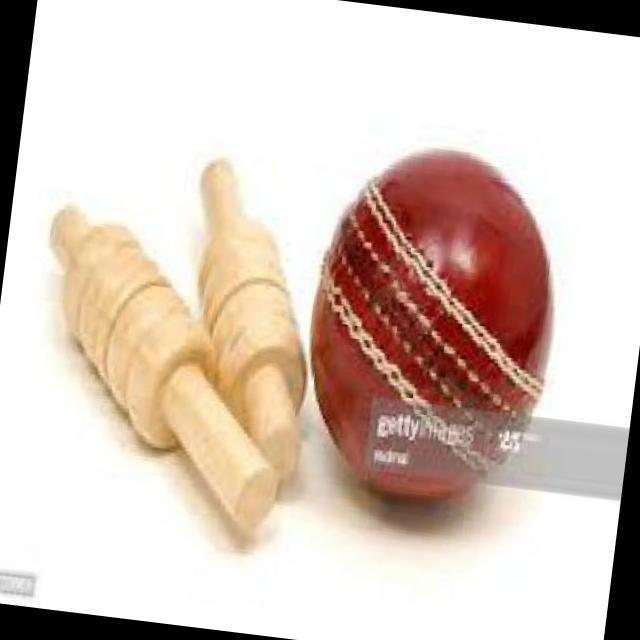-: (303, 172, 564, 497)
